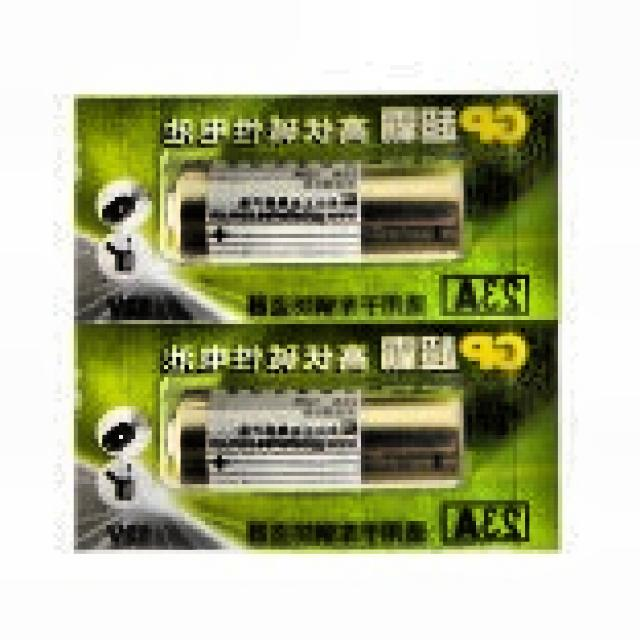Non-Valuable Waste - Batteries: (164, 157, 463, 259), (166, 389, 461, 485)
